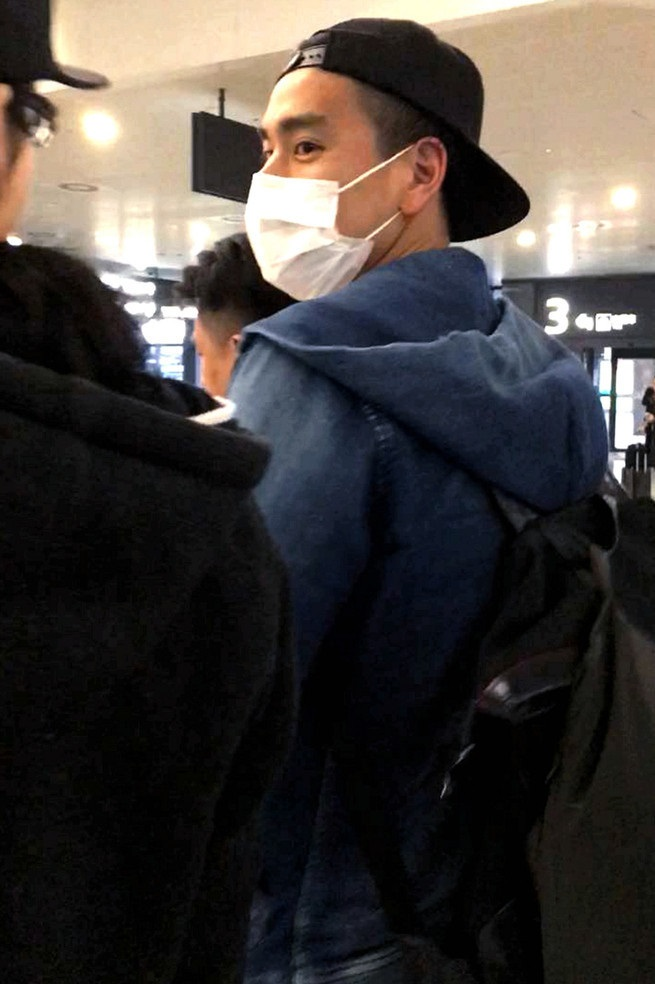face_mask: (245, 57, 394, 298)
